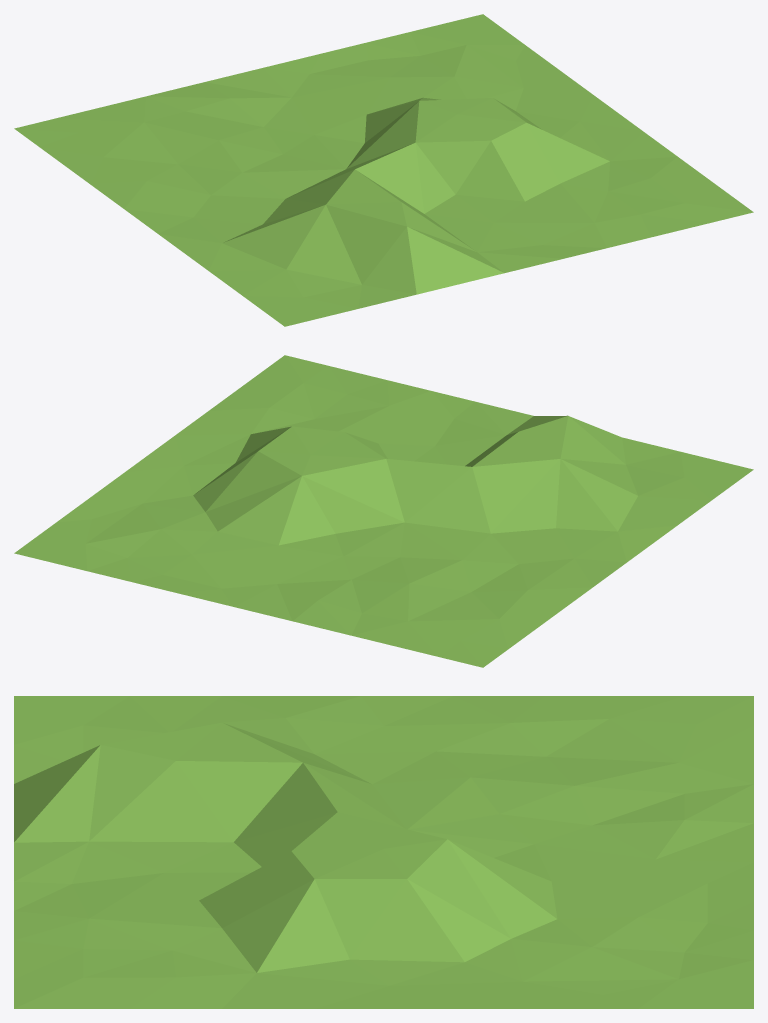
The model's file is MT_Terrain_S_c_15.fbx.
3 renders of one model, top to bottom at view 1: azimuth 30°, elevation 25°; view 2: azimuth 150°, elevation 25°; view 3: azimuth 270°, elevation 25°, orthographic. The views are drawn at different scales.
Parts seen in each view (by area): view 1: MT_Terrain_S_c_15; view 2: MT_Terrain_S_c_15; view 3: MT_Terrain_S_c_15.
Boxes of the visible parts, bbox=[...] form: MT_Terrain_S_c_15: bbox=[14, 14, 753, 326]; MT_Terrain_S_c_15: bbox=[14, 355, 753, 667]; MT_Terrain_S_c_15: bbox=[14, 696, 753, 1008].
Bounding box in the file's own units: 2500 × 209 × 2500.
